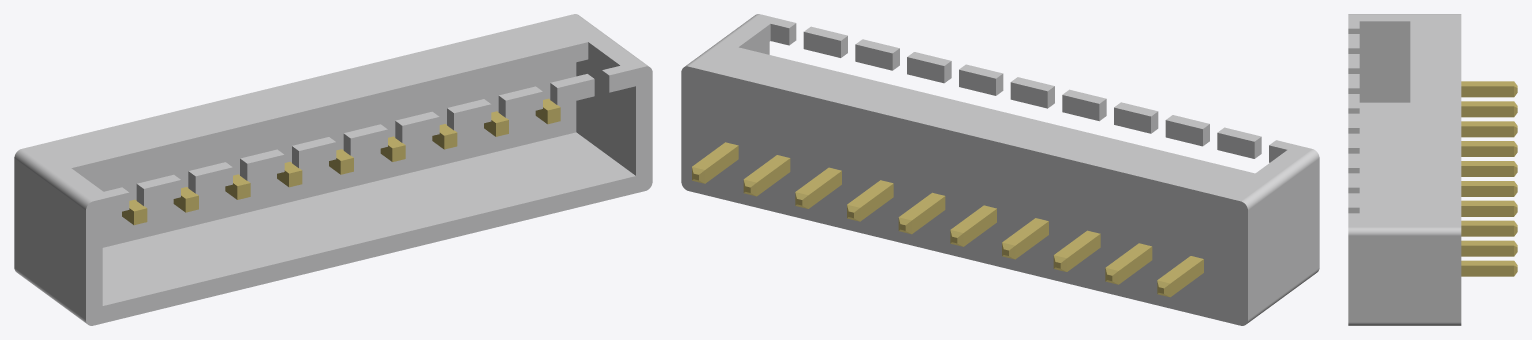
Rendered from jst_xh_10pin.glb.
3 renders of one model, left to right at view 1: azimuth 30°, elevation 25°; view 2: azimuth 150°, elevation 25°; view 3: azimuth 270°, elevation 25°, orthographic. The views are drawn at different scales.
Visible parts, largest first — view 1: world; view 2: world; view 3: world.
Part boxes in pixels (x1,y1,x2,y2): world: (14, 14, 652, 325); world: (681, 14, 1319, 325); world: (1348, 14, 1517, 325).
Size of the model in its own units: 27.4 by 5.75 by 9.
